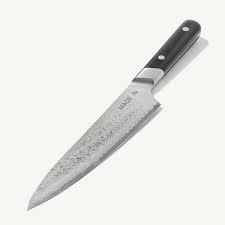Knife: (26, 18, 201, 211)
